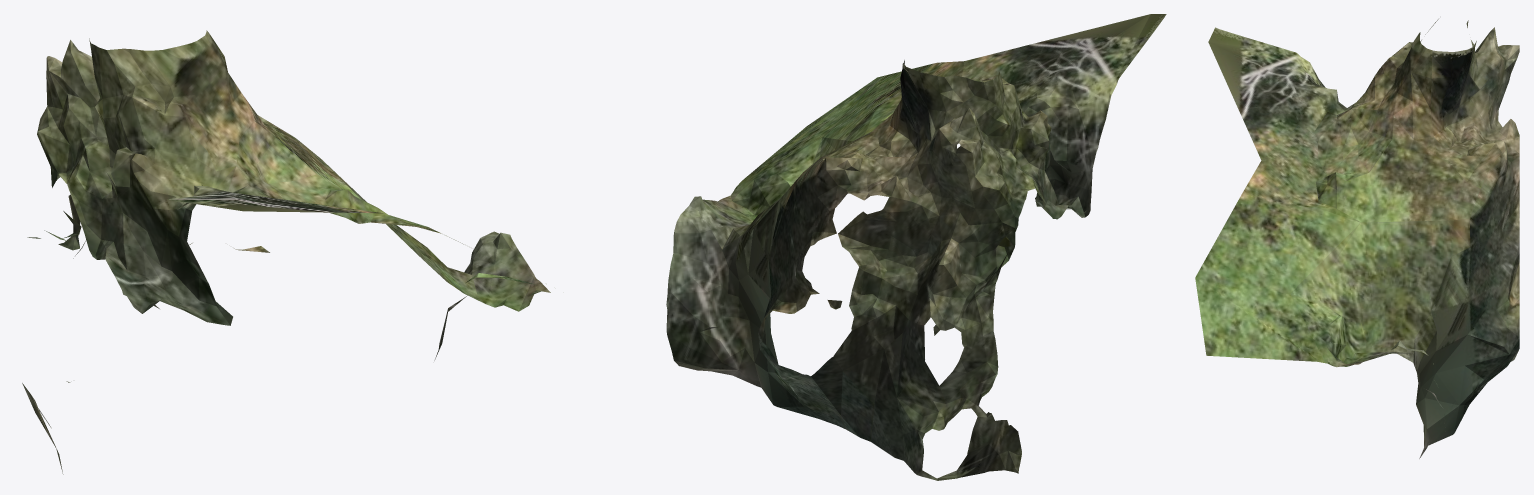
3 views of the same model, side by side, from view 1: azimuth 30°, elevation 25°; view 2: azimuth 150°, elevation 25°; view 3: azimuth 270°, elevation 25° (orthographic). The views are drawn at different scales.
Bounding box in the file's own units: 5.9 × 5.9 × 5.3.
Materials: 4 (4 with a texture image).
